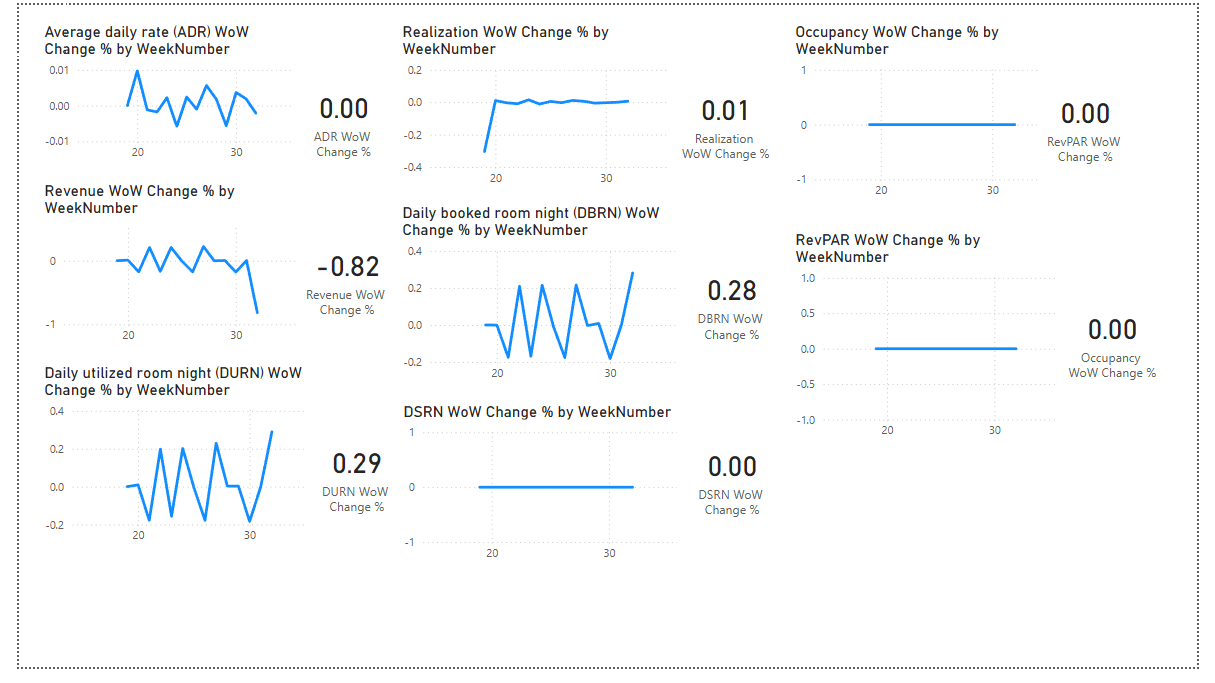

Layout of this report page (visuals, bound fields, positions):
{"tool":"powerbi","page":{"name":"Week over Week Change","canvas":[1280,720],"ordinal":1},"visuals":[{"type":"lineChart","title":"Average daily rate (ADR) WoW Change % by WeekNumber","fields":{"Category":["dim_date.WeekNumber"],"Y":["dim_date.ADR WoW Change %"]},"box":[23.3,18,281.9,159.8],"z":0},{"type":"lineChart","fields":{"Category":["dim_date.WeekNumber"],"Y":["dim_date.Realization WoW Change %"]},"box":[412.1,18,300.7,187.6],"z":1000},{"type":"lineChart","fields":{"Category":["dim_date.WeekNumber"],"Y":["dim_date.Revenue WoW Change %"]},"box":[23.3,191.2,286.4,185.8],"z":2000},{"type":"lineChart","title":"Daily booked room night (DBRN) WoW Change % by WeekNumber","fields":{"Y":["dim_date.DBRN WoW Change %"],"Category":["dim_date.WeekNumber"]},"box":[412.1,215.5,307,202.9],"z":3000},{"type":"lineChart","title":"Daily utilized room night (DURN) WoW Change % by WeekNumber","fields":{"Y":["dim_date.DURN WoW Change %"],"Category":["dim_date.WeekNumber"]},"box":[23.3,388.7,303.4,205.6],"z":4000},{"type":"card","fields":{"Values":["dim_date.Revenue WoW Change %"]},"box":[300.7,219.1,111.3,140.9],"z":5000},{"type":"card","fields":{"Values":["dim_date.DURN WoW Change %"]},"box":[309.7,431.8,114.9,145.4],"z":6000},{"type":"card","fields":{"Values":["dim_date.ADR WoW Change %"]},"box":[305.2,47.6,95.2,140.9],"z":7000},{"type":"card","fields":{"Values":["dim_date.DBRN WoW Change %"]},"box":[720,244.2,110.4,144.5],"z":8000},{"type":"card","fields":{"Values":["dim_date.Realization WoW Change %"]},"box":[712.8,50.3,110.4,140.9],"z":9000},{"type":"lineChart","fields":{"Y":["dim_date.DSRN WoW Change %"],"Category":["dim_date.WeekNumber"]},"box":[413,431.8,307,182.2],"z":10000},{"type":"card","fields":{"Values":["dim_date.DSRN WoW Change %"]},"box":[727.2,438.1,96.1,139.2],"z":11000},{"type":"lineChart","fields":{"Y":["dim_date.Occupancy WoW Change %"],"Category":["dim_date.WeekNumber"]},"box":[839.4,18,294.5,201.1],"z":12000},{"type":"lineChart","fields":{"Y":["dim_date.RevPAR WoW Change %"],"Category":["dim_date.WeekNumber"]},"box":[839.4,244.2,294.5,236.1],"z":12001},{"type":"card","fields":{"Values":["dim_date.RevPAR WoW Change %"]},"box":[1109.6,50.3,98.8,147.2],"z":12002},{"type":"card","fields":{"Values":["dim_date.Occupancy WoW Change %"]},"box":[1133.9,284.6,109.5,147.2],"z":12003}]}

Visuals, with their boxes in screenshot pixels (x1, y1, x2, y2), scaled from the page's 1280x720 canvas onto the 1215x683 screenshot:
"Average daily rate (ADR) WoW Change % by WeekNumber" lineChart: [x1=22, y1=17, x2=290, y2=169]
lineChart - dim_date.WeekNumber x dim_date.Realization WoW Change %: [x1=391, y1=17, x2=677, y2=195]
lineChart - dim_date.WeekNumber x dim_date.Revenue WoW Change %: [x1=22, y1=181, x2=294, y2=358]
"Daily booked room night (DBRN) WoW Change % by WeekNumber" lineChart: [x1=391, y1=204, x2=683, y2=397]
"Daily utilized room night (DURN) WoW Change % by WeekNumber" lineChart: [x1=22, y1=369, x2=310, y2=564]
card - dim_date.Revenue WoW Change %: [x1=285, y1=208, x2=391, y2=342]
card - dim_date.DURN WoW Change %: [x1=294, y1=410, x2=403, y2=548]
card - dim_date.ADR WoW Change %: [x1=290, y1=45, x2=380, y2=179]
card - dim_date.DBRN WoW Change %: [x1=683, y1=232, x2=788, y2=369]
card - dim_date.Realization WoW Change %: [x1=677, y1=48, x2=781, y2=181]
lineChart - dim_date.DSRN WoW Change % x dim_date.WeekNumber: [x1=392, y1=410, x2=683, y2=582]
card - dim_date.DSRN WoW Change %: [x1=690, y1=416, x2=781, y2=548]
lineChart - dim_date.Occupancy WoW Change % x dim_date.WeekNumber: [x1=797, y1=17, x2=1076, y2=208]
lineChart - dim_date.RevPAR WoW Change % x dim_date.WeekNumber: [x1=797, y1=232, x2=1076, y2=456]
card - dim_date.RevPAR WoW Change %: [x1=1053, y1=48, x2=1147, y2=187]
card - dim_date.Occupancy WoW Change %: [x1=1076, y1=270, x2=1180, y2=410]
